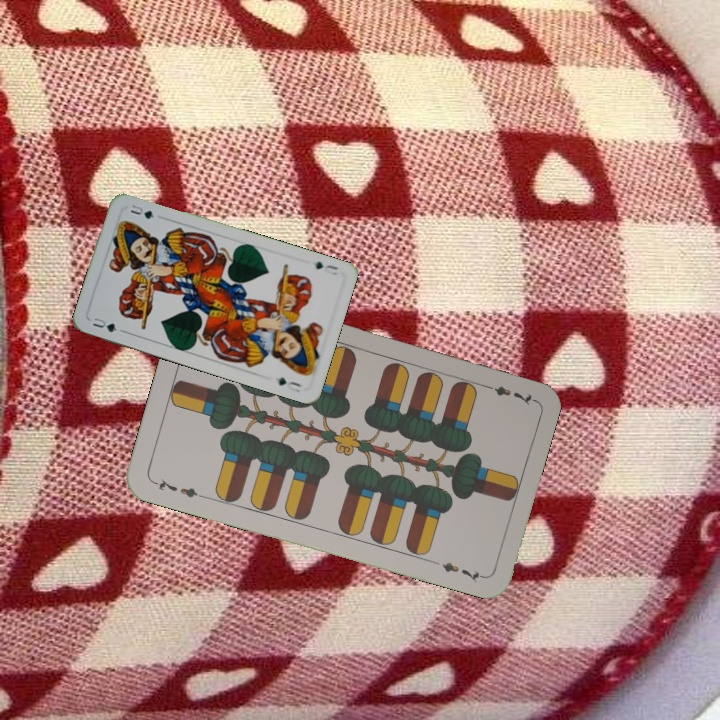E7: (478, 380, 536, 408), (149, 475, 207, 501)
GU: (89, 314, 120, 335), (311, 257, 341, 278)
